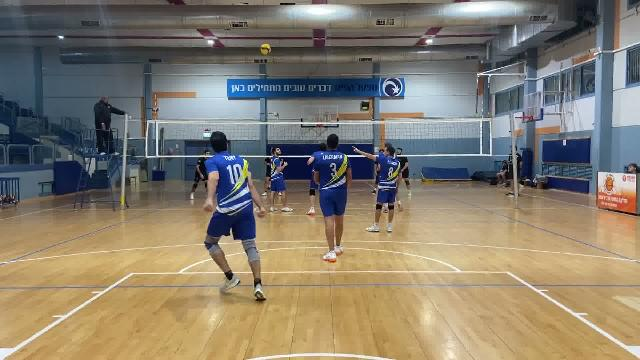ball: (258, 44, 271, 54)
